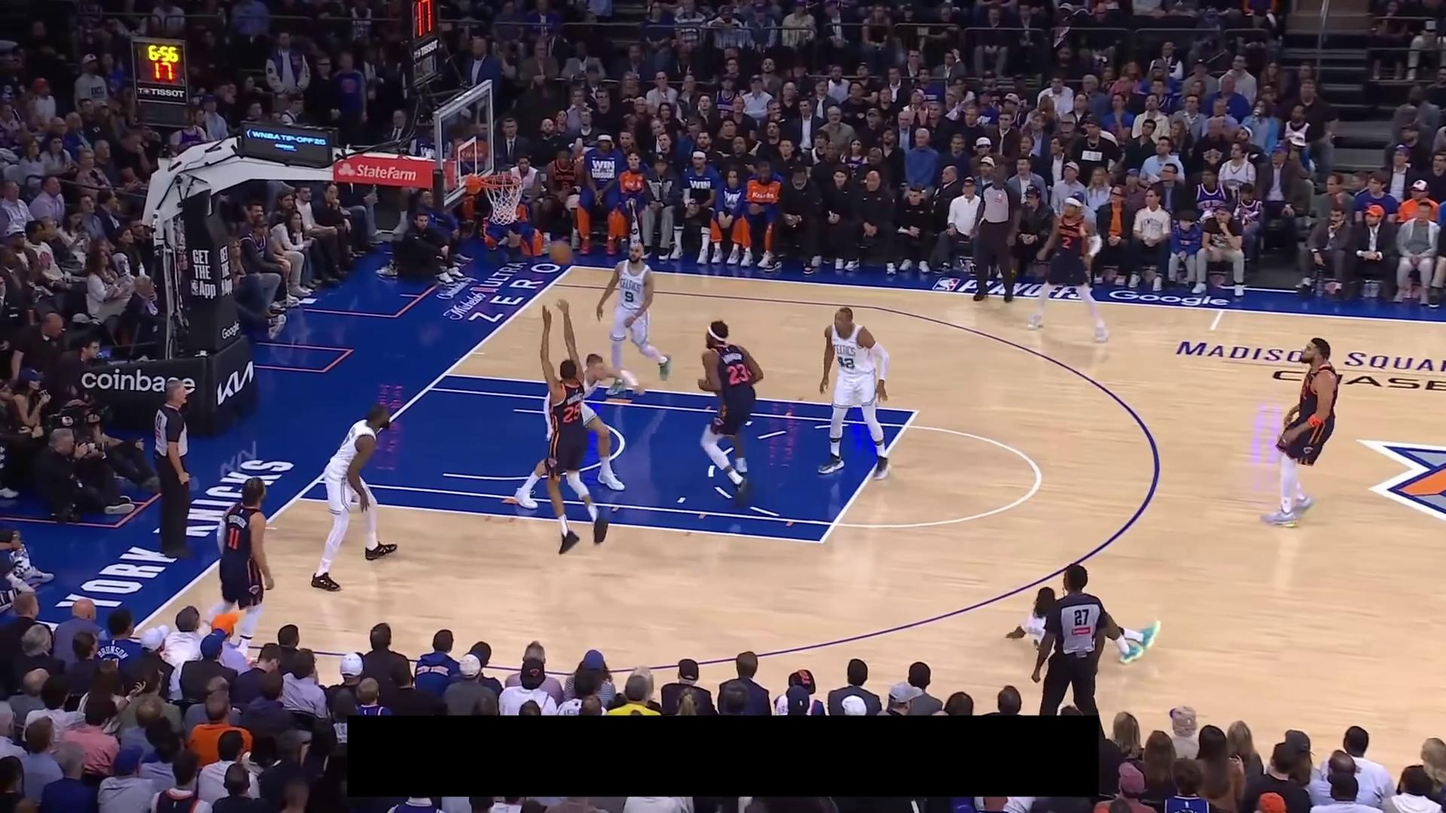ball: (550, 240, 573, 265)
number: (726, 362, 749, 385), (563, 402, 582, 423), (837, 355, 856, 371), (227, 527, 240, 550), (1061, 236, 1072, 250), (624, 290, 635, 303)
player: (309, 401, 400, 593), (515, 353, 625, 509), (1258, 336, 1341, 528), (194, 477, 277, 662), (815, 305, 893, 483), (694, 318, 766, 508), (1026, 194, 1112, 346), (1006, 586, 1162, 665), (596, 241, 673, 395)
player-jump-shot: (540, 300, 608, 555)
referee: (1031, 563, 1109, 716), (152, 379, 195, 559), (972, 163, 1023, 303)
rim: (480, 174, 524, 187)
